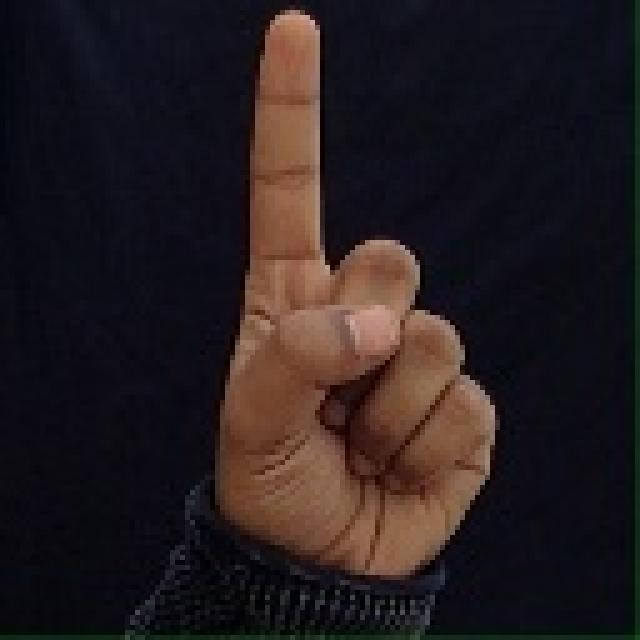Numeric-1: (218, 2, 500, 598)
